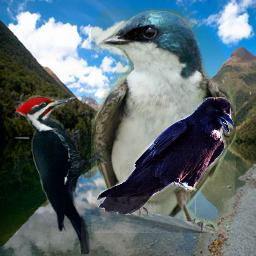Crow: (97, 97, 234, 215)
Swallow: (91, 8, 236, 233)
Woodpecker: (16, 93, 110, 254)
